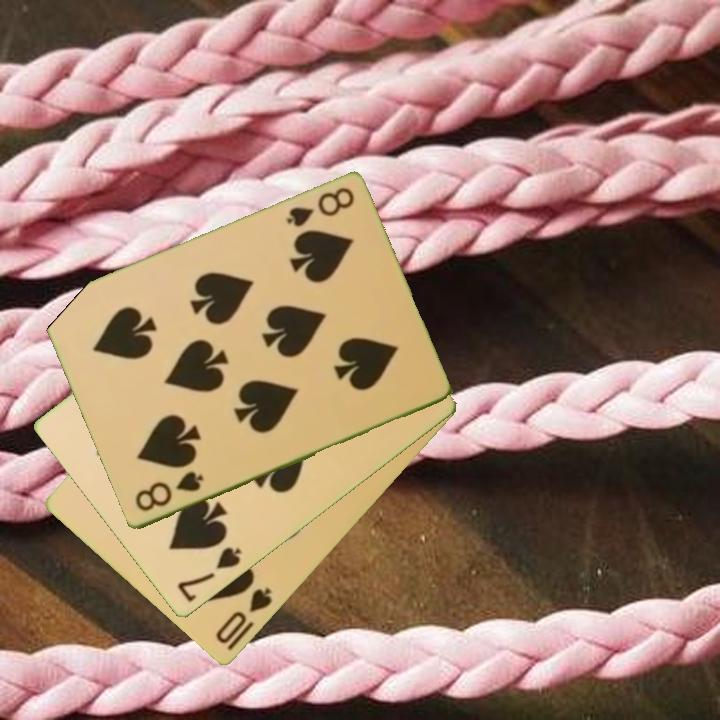10s: (212, 584, 275, 648)
7s: (174, 543, 245, 606)
8s: (131, 468, 207, 515), (283, 184, 357, 231)
